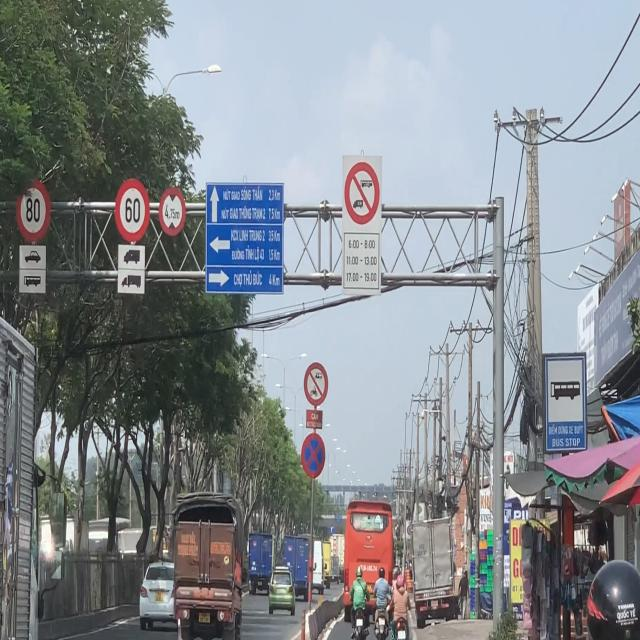Ben xe buyt: (544, 354, 587, 452)
Cam con lai: (344, 161, 381, 227), (304, 362, 328, 407)
Cam dung va do: (301, 433, 326, 478)
Chieu cao toi da: (158, 186, 186, 237)
Toc do toi da: (15, 178, 51, 242), (114, 178, 150, 242)
